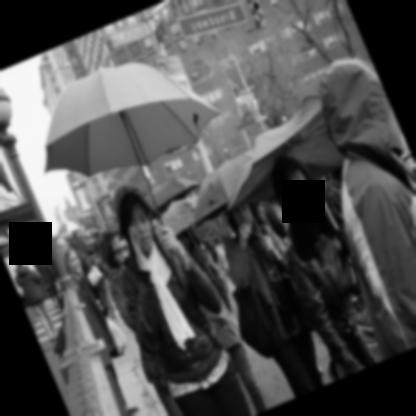handbag: (299, 246, 382, 367), (237, 284, 271, 359), (139, 345, 168, 387)
